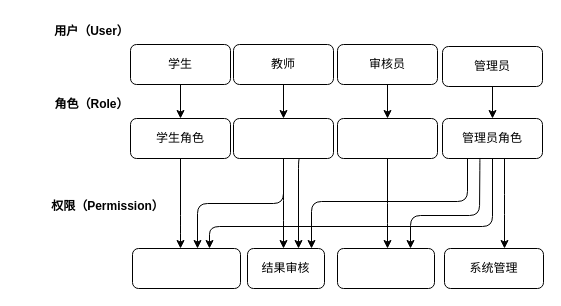
This 561x306 diagram has some shape labels left out. The shapes that lost their labels are listed below. From the top down, each one's box as (x1, y1, x2, y2) in pixels, then its label:
(232, 118, 334, 158): 教师角色
(336, 118, 438, 158): 审核员角色
(132, 248, 240, 288): 文件上传/查看
(336, 248, 434, 288): 数据统计
